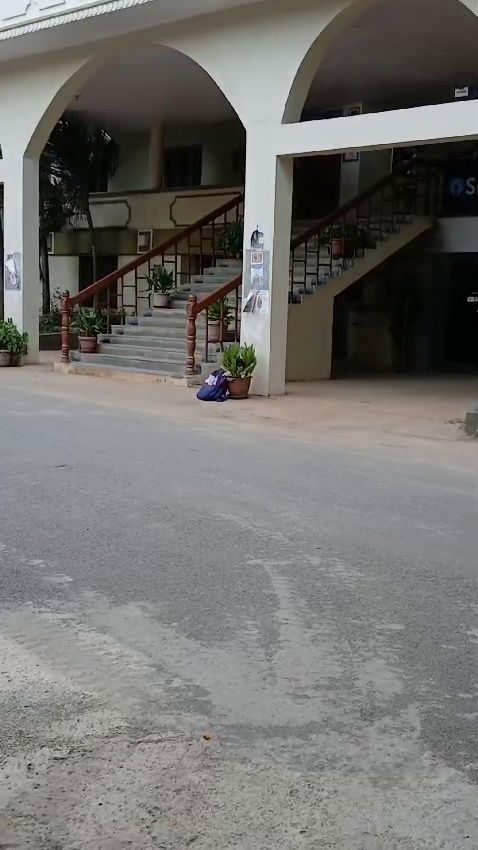bag: (189, 368, 227, 403)
